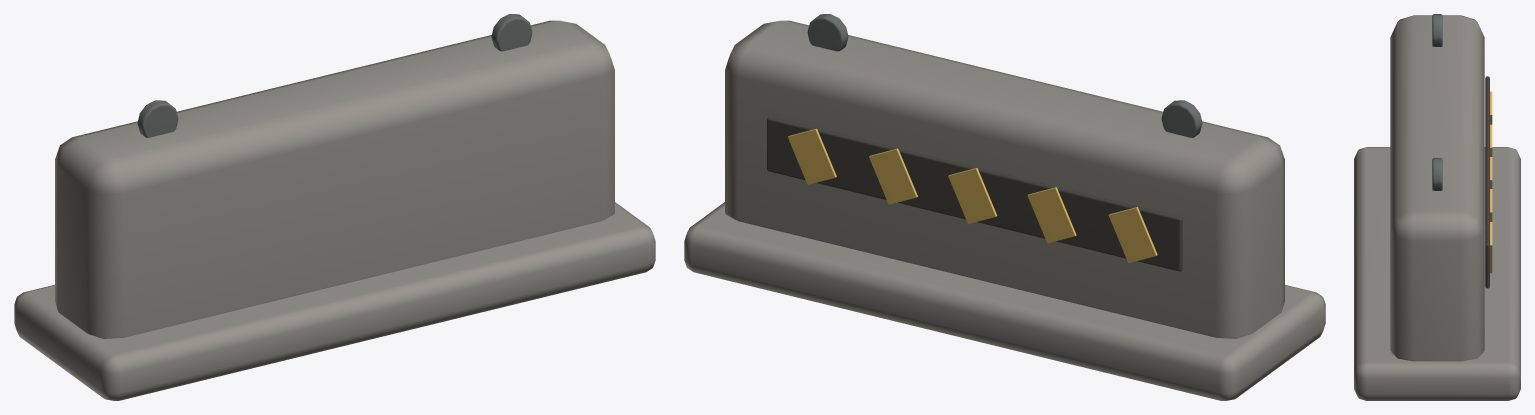
The model's file is STK-B02.fbx.
3 renders of one model, left to right at view 1: azimuth 30°, elevation 25°; view 2: azimuth 150°, elevation 25°; view 3: azimuth 270°, elevation 25°, orthographic. The views are drawn at different scales.
Parts seen in each view (by area): view 1: STK-B02_Concrete, STK-B02_Steel; view 2: STK-B02_Concrete, STK-B02_Soot, STK-B02_Warning, STK-B02_Steel; view 3: STK-B02_Concrete, STK-B02_Soot, STK-B02_Steel, STK-B02_Warning.
Part boxes in pixels (x1=…): STK-B02_Concrete: x1=14, y1=20, x2=655, y2=400; STK-B02_Steel: x1=137, y1=14, x2=532, y2=137; STK-B02_Concrete: x1=684, y1=20, x2=1325, y2=400; STK-B02_Soot: x1=767, y1=117, x2=1182, y2=271; STK-B02_Warning: x1=788, y1=128, x2=1157, y2=263; STK-B02_Steel: x1=807, y1=14, x2=1202, y2=137; STK-B02_Concrete: x1=1354, y1=15, x2=1520, y2=400; STK-B02_Soot: x1=1485, y1=76, x2=1489, y2=288; STK-B02_Steel: x1=1432, y1=14, x2=1442, y2=190; STK-B02_Warning: x1=1490, y1=91, x2=1492, y2=273.
Size of the model in its own units: 300 by 128 by 94.
